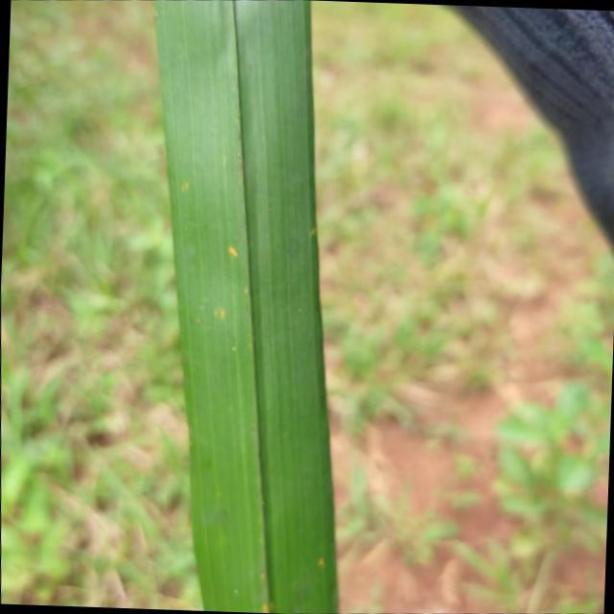Kalium: (156, 3, 339, 614)
